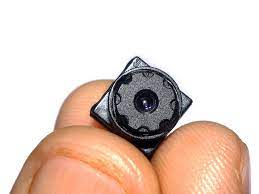Camera: (90, 54, 196, 163)
